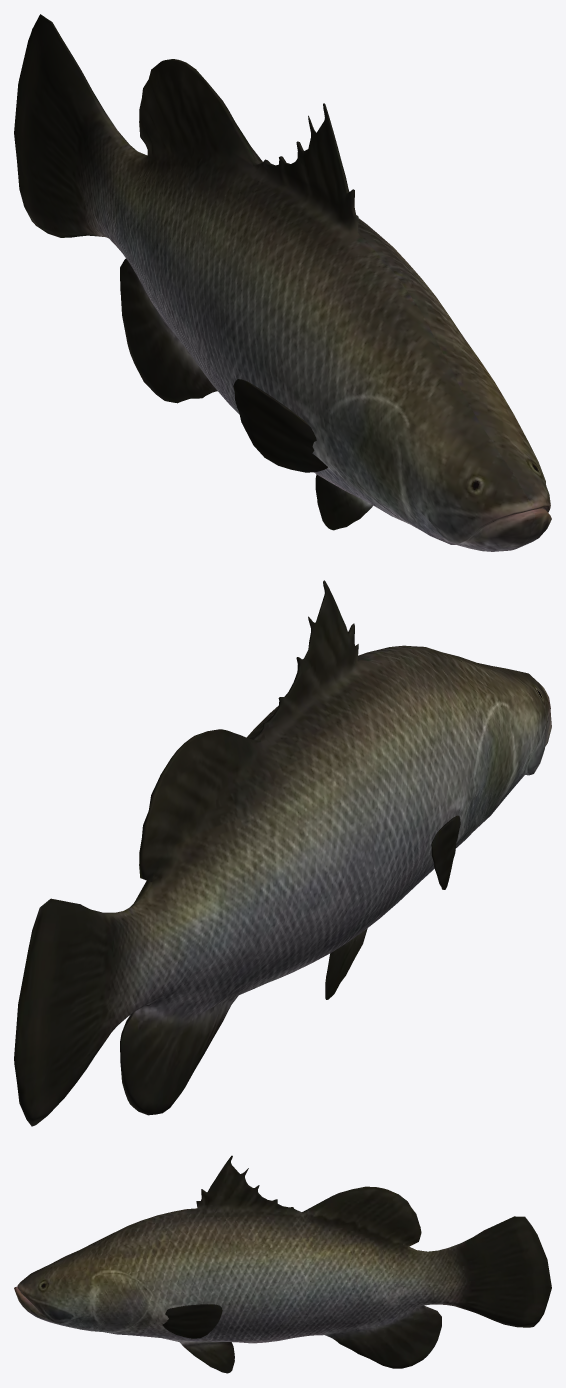
The model's file is BarramundiFish.glb.
3 views of the same model, one above another, from view 1: azimuth 30°, elevation 25°; view 2: azimuth 150°, elevation 25°; view 3: azimuth 270°, elevation 25° (orthographic). The views are drawn at different scales.
Visible parts, largest first — view 1: BarramundiFish; view 2: BarramundiFish; view 3: BarramundiFish.
Part boxes in pixels (x1,y1,x2,y2): BarramundiFish: (14,14,551,551); BarramundiFish: (14,580,551,1126); BarramundiFish: (14,1155,551,1373).
Bounding box in the file's own units: 0.1429 × 0.2875 × 0.6431.
1 material, 1 textured.
